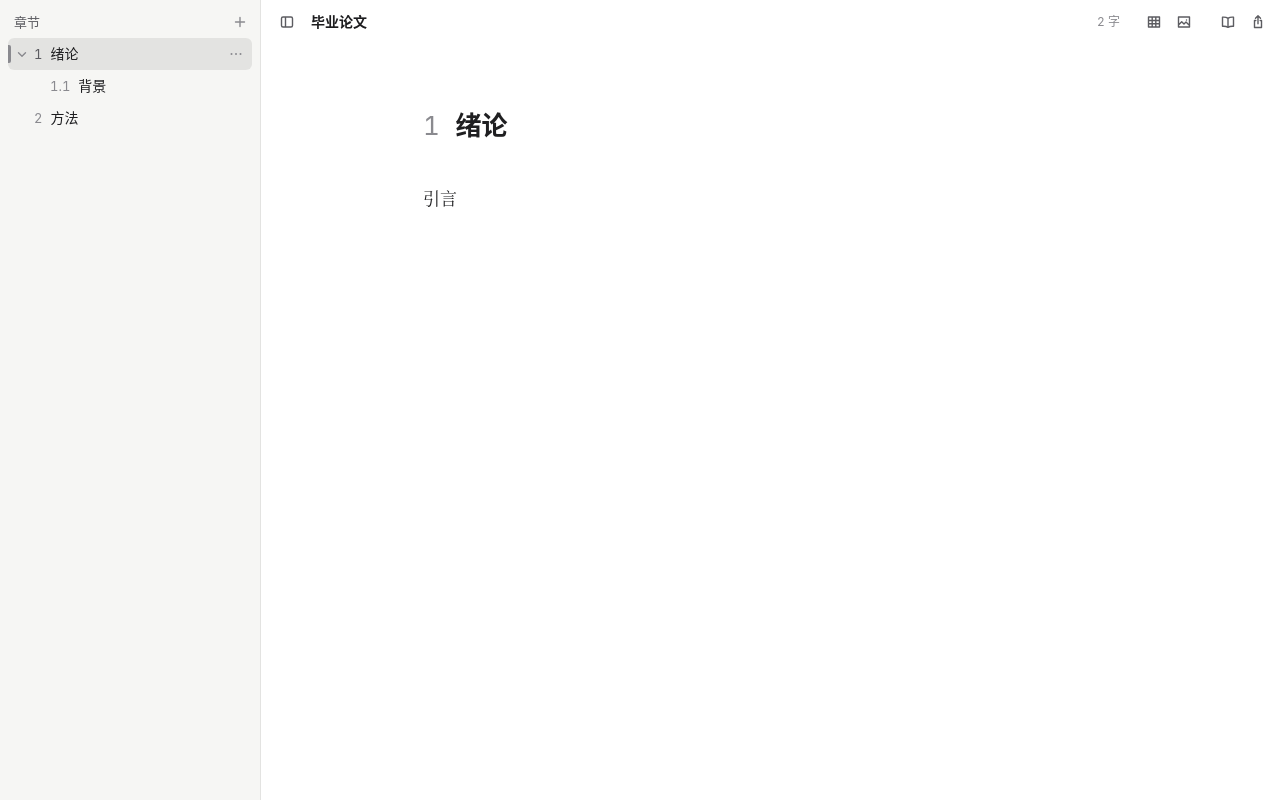
Scenario: 窗口标题显示当前文档名，回到欢迎页时恢复
Click the button with class "document-title__button". click: click(346, 22)
box: [305, 8, 387, 36]
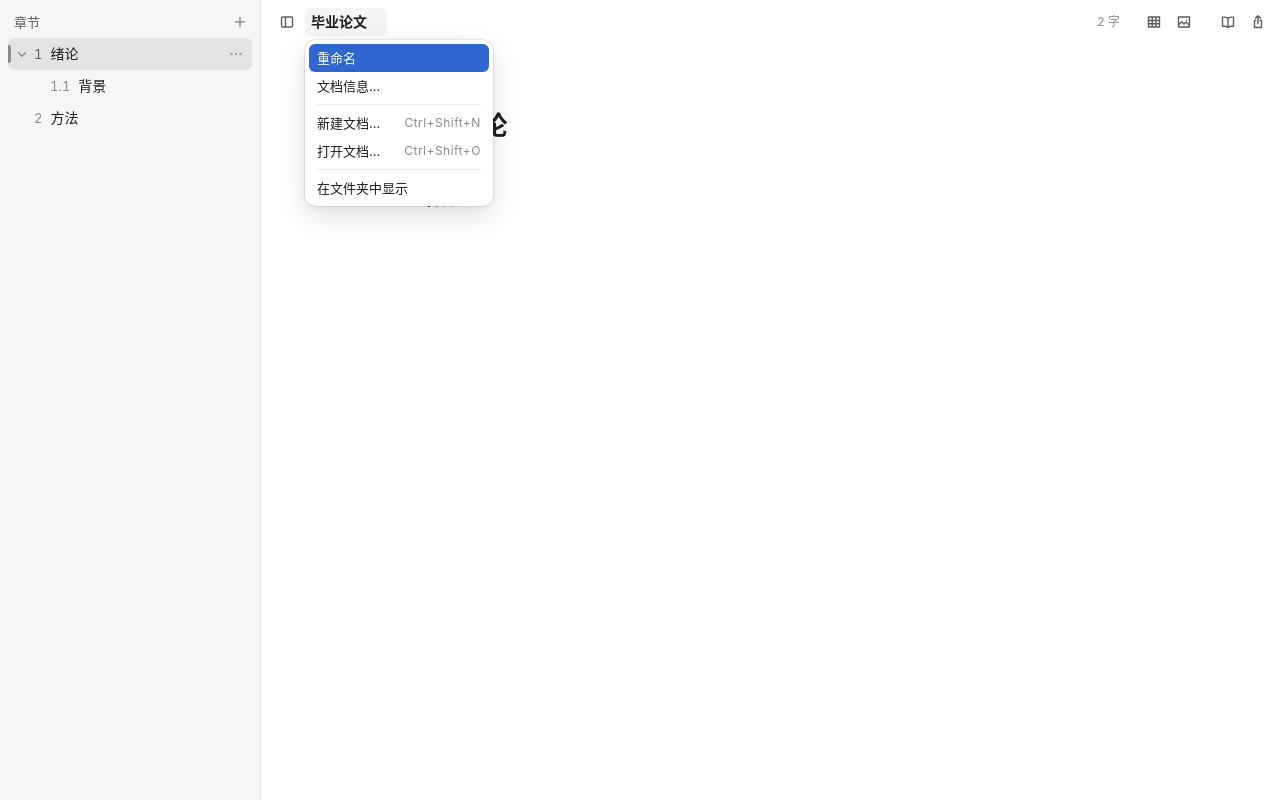
Click the menu item "重命名". click: click(399, 58)
box: [309, 44, 489, 72]
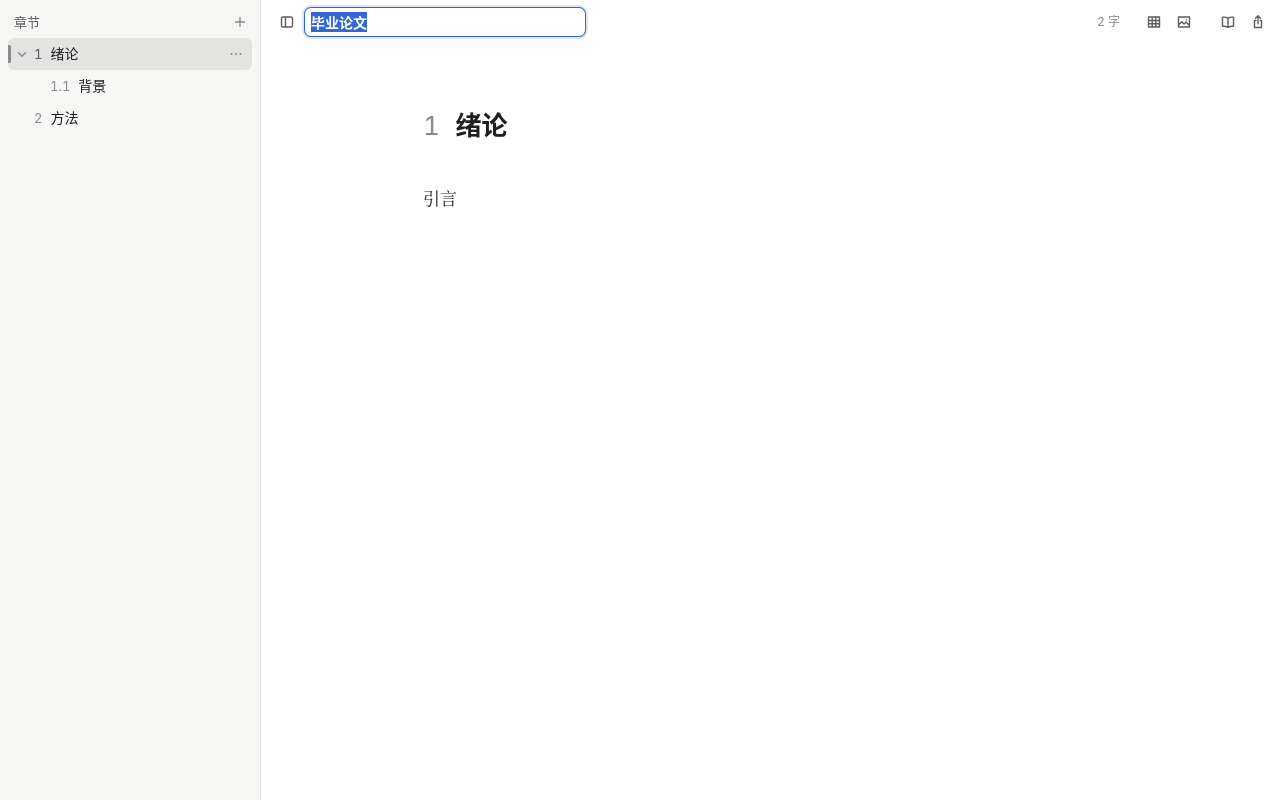
Replace the text in the field with class "document-title__input" with "终稿". click: (445, 22)
box: [305, 8, 585, 36]
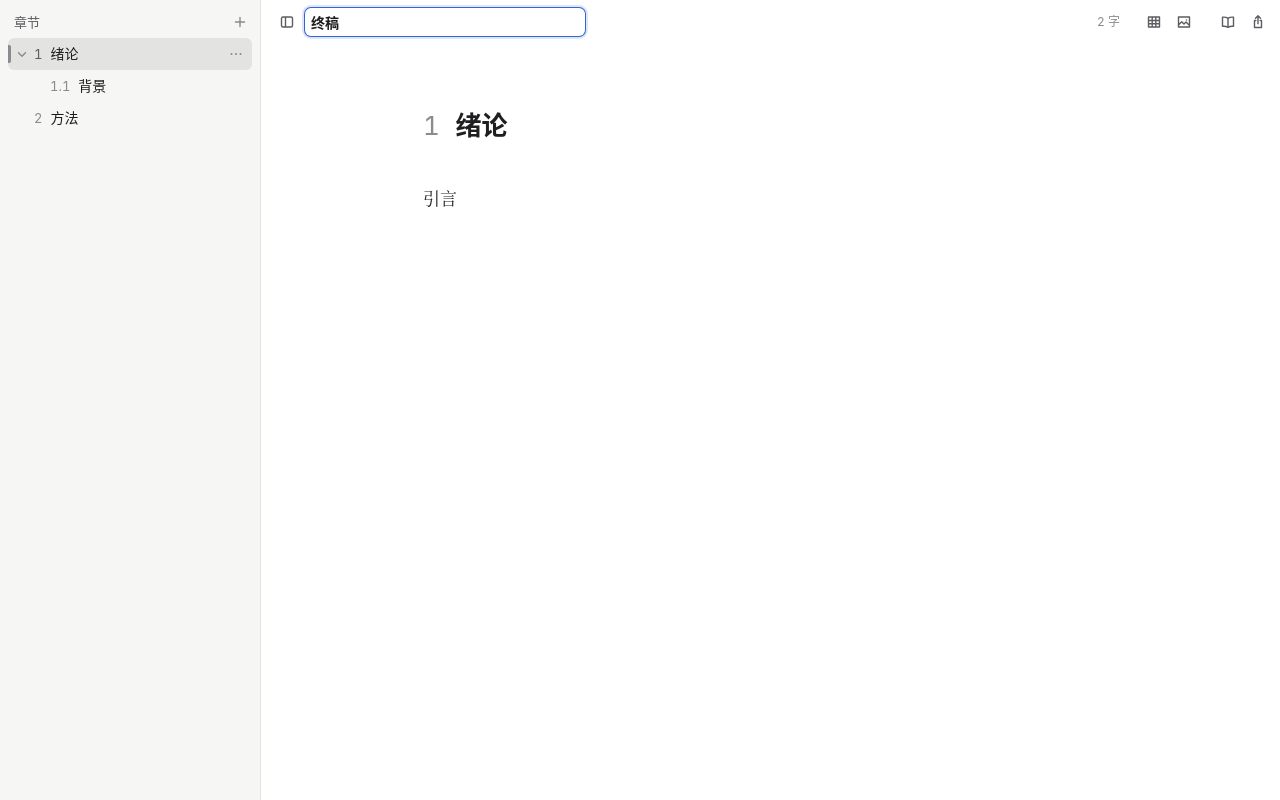
Press Enter in the field with class "document-title__input", box [305, 8, 585, 36]
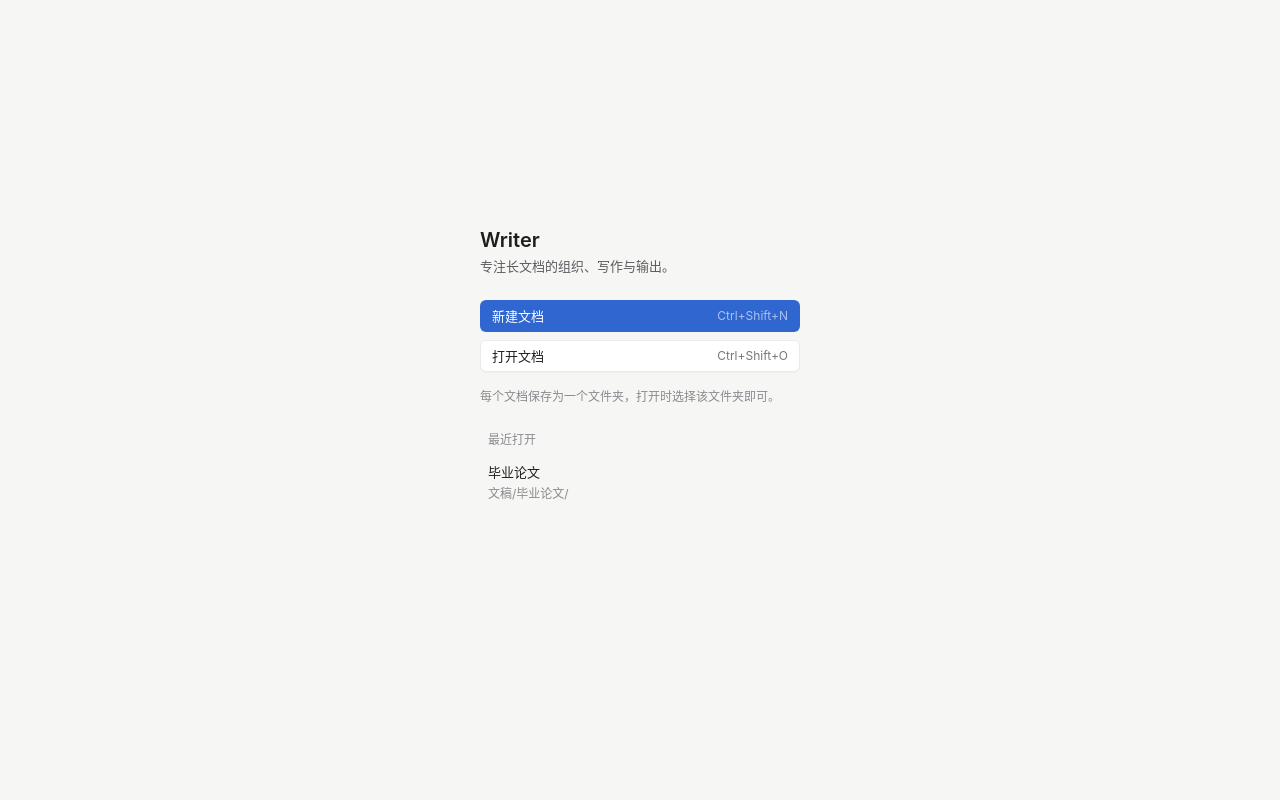
Now the heading "Writer" is shown, box [480, 228, 540, 252]
